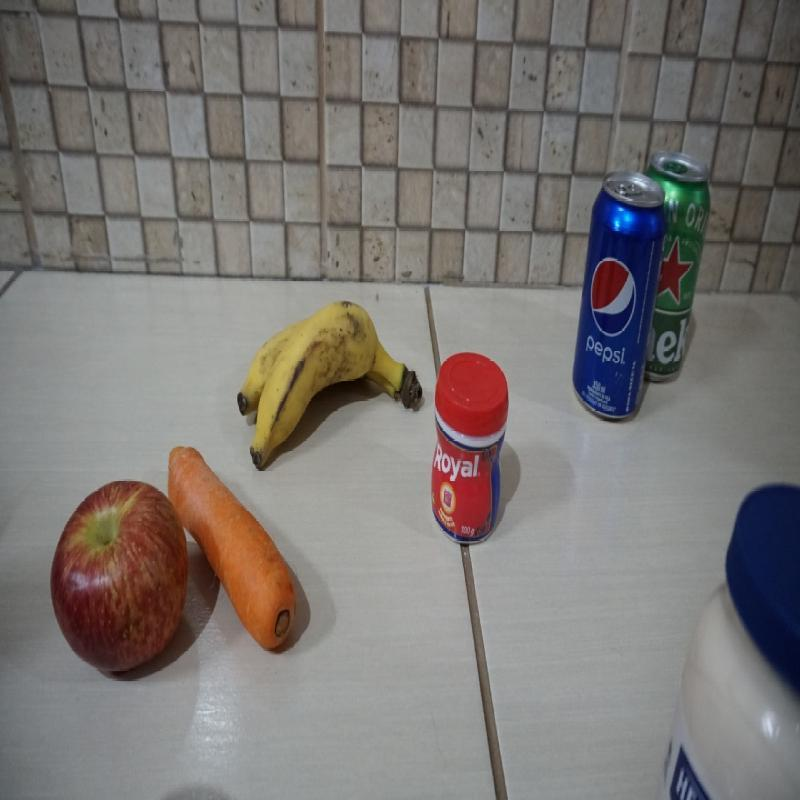Apple: (50, 480, 190, 679)
Banana: (237, 297, 425, 470)
Beer can: (640, 148, 712, 388)
Carrot: (166, 445, 298, 655)
Mayonnaise: (649, 481, 799, 799)
Soda can: (571, 169, 666, 420)
Yeast: (430, 351, 509, 546)
